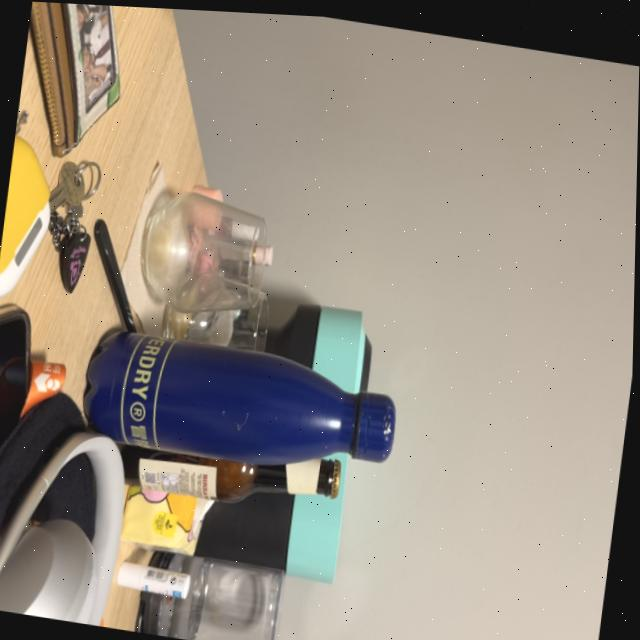beer: (116, 413, 346, 520)
